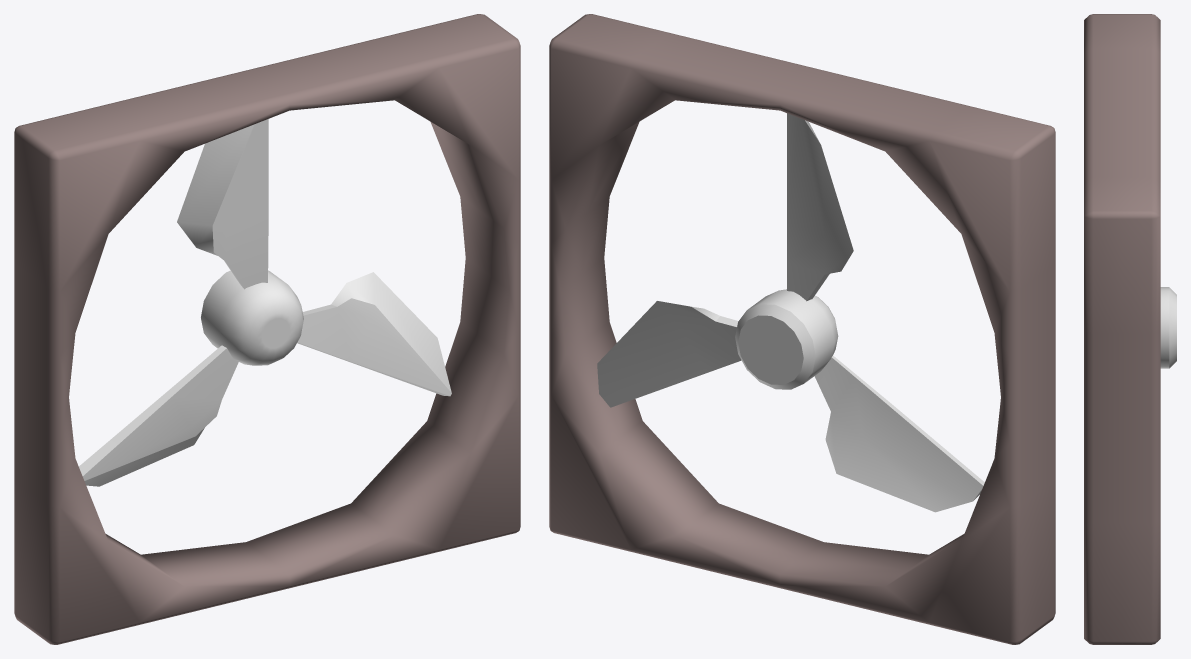
The model's file is vantilator.FBX.
The picture shows the model from 3 angles, left to right: view 1: azimuth 30°, elevation 25°; view 2: azimuth 150°, elevation 25°; view 3: azimuth 270°, elevation 25°; orthographic projection. The views are drawn at different scales.
Visible parts, largest first — view 1: base, blade_02, blade_04, blade_00, rotor; view 2: base, blade_00, blade_04, blade_02, rotor; view 3: base, rotor.
Part boxes in pixels (left/top/right/bottom): base: left=14, top=14, right=520, bottom=644; blade_02: left=177, top=119, right=268, bottom=289; blade_04: left=297, top=272, right=451, bottom=396; blade_00: left=79, top=345, right=238, bottom=486; rotor: left=201, top=270, right=303, bottom=365; base: left=549, top=14, right=1055, bottom=644; blade_00: left=814, top=355, right=984, bottom=512; blade_04: left=597, top=301, right=741, bottom=407; blade_02: left=787, top=113, right=853, bottom=301; rotor: left=735, top=289, right=838, bottom=389; base: left=1084, top=14, right=1160, bottom=644; rotor: left=1160, top=287, right=1176, bottom=368.
Bounding box in the file's own units: 299 × 58.27 × 300.
